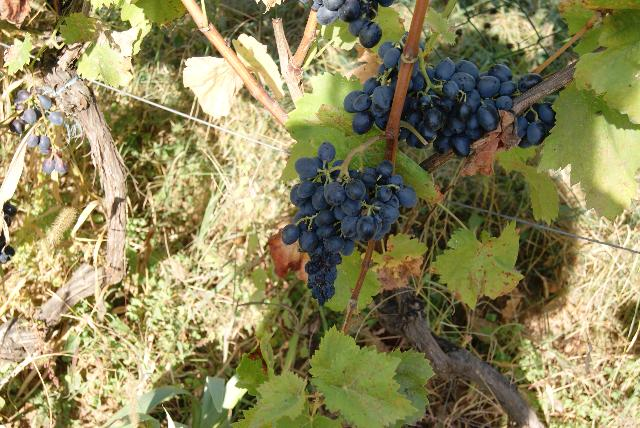grapes: (281, 142, 418, 305), (399, 55, 541, 158), (344, 32, 410, 135), (520, 102, 555, 148)
